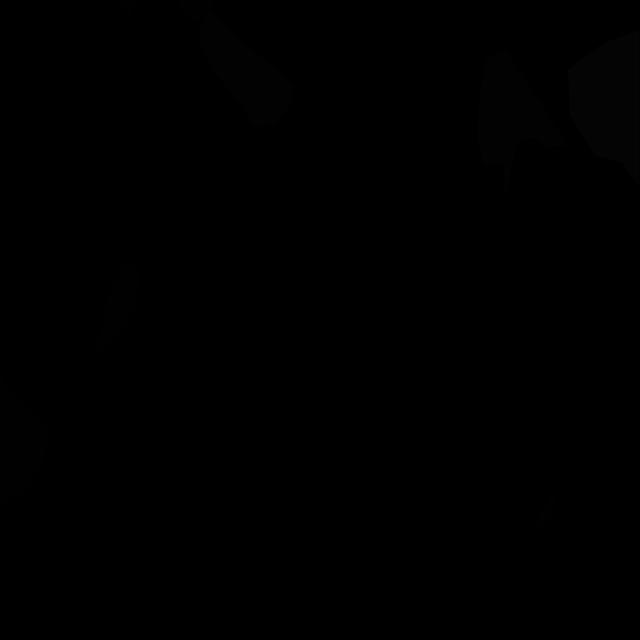cardboard: (477, 49, 568, 195), (199, 9, 294, 128)
rigid_plastic: (0, 372, 49, 512), (93, 264, 141, 362), (530, 487, 557, 535)
soft_plastic: (568, 29, 640, 188)
